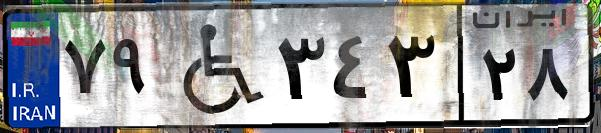2: (475, 38, 525, 113)
3: (270, 28, 330, 110), (385, 28, 445, 110)
4: (330, 28, 385, 110)
7: (57, 26, 110, 100)
8: (525, 38, 570, 115)
9: (110, 28, 158, 98)
ژ (معلولین و جانبازان): (158, 12, 270, 120)
